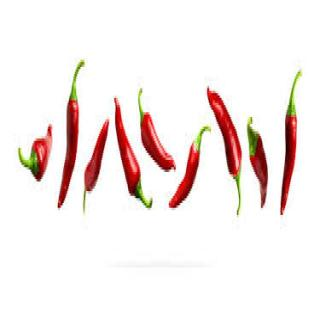Cabai Merah: (206, 87, 244, 177), (114, 95, 140, 199), (58, 97, 80, 209), (170, 145, 204, 215), (141, 111, 177, 173), (248, 123, 270, 213), (281, 111, 299, 221), (86, 121, 110, 195), (34, 126, 55, 181)
